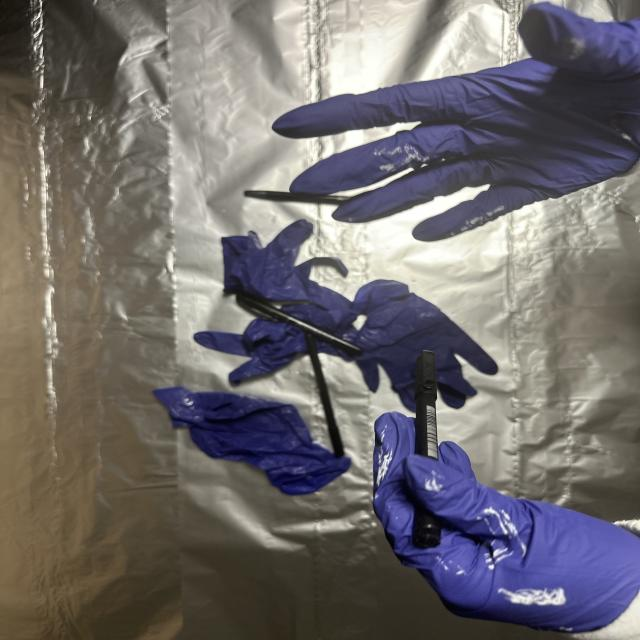gloves_contaminated: (272, 2, 640, 242), (373, 412, 640, 640)
